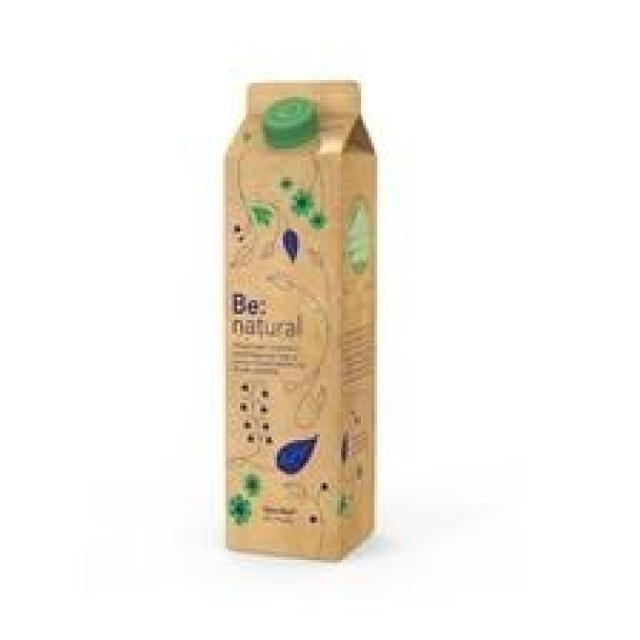Carton: (220, 79, 384, 564)
